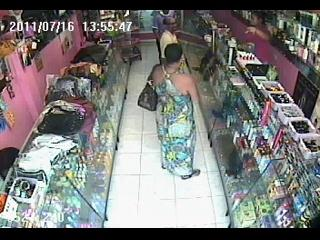Normal: (148, 43, 206, 179), (245, 13, 273, 65), (160, 17, 179, 64), (137, 82, 158, 112)
